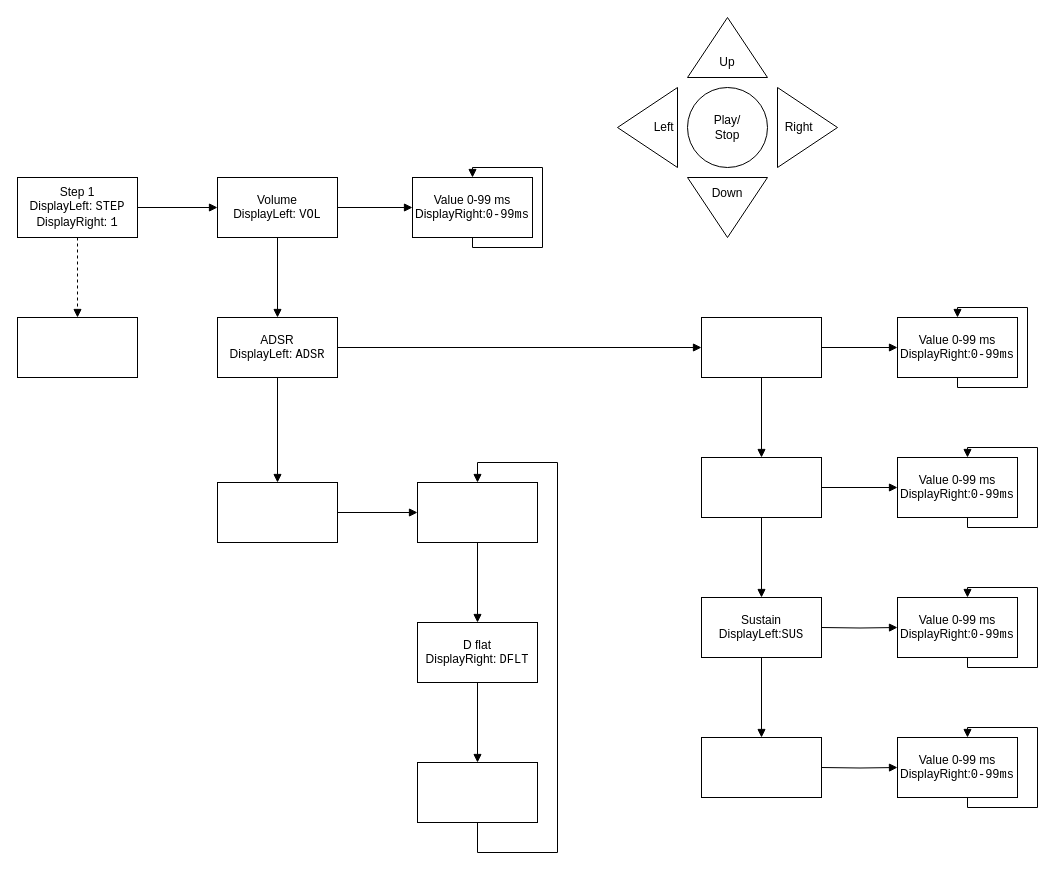
Some shapes in this 1063 by 878 pixel diagram are drawn without their labels. Each missing label, with the centre of its shape:
"Attack DisplayLeft: ADSR" goes at (x=761, y=347).
"C DisplayRight: C" goes at (x=477, y=512).
"D, etc" goes at (x=477, y=792).
"Decay DisplayLeft: DECY" goes at (x=761, y=487).
"Note/Pitch DisplayLeft: PTCH" goes at (x=277, y=512).
"Release DisplayLeft: REL" goes at (x=761, y=767).
"Step 2 DisplayLeft: STEP DisplayRight: 2..." goes at (x=77, y=347).
